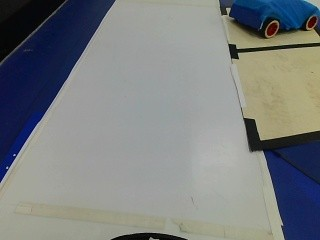car: (225, 0, 318, 45)
